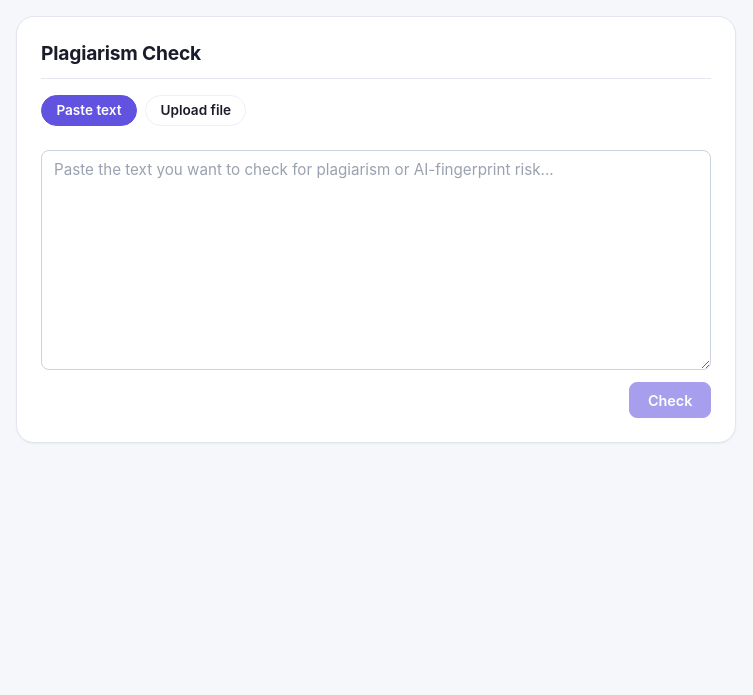
Test case: PlagiarismCheckPanel › checks the typed text and displays all three scores
Replace the text in the text box labelled "Paste the text you want to check for plagiarism or AI-fingerprint risk..." with "My own academic text": (376, 260) [41, 150, 711, 370]
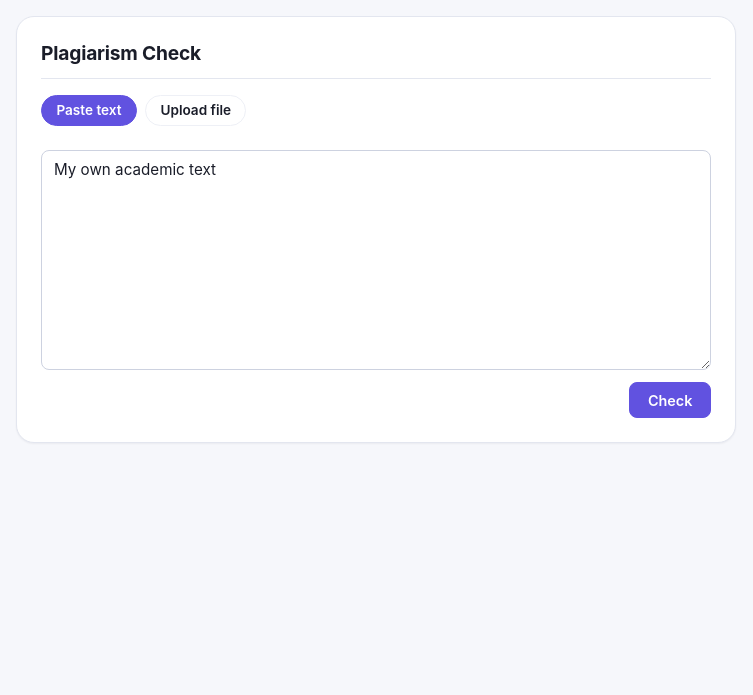
Click the button "Check": (670, 400) [629, 382, 711, 418]
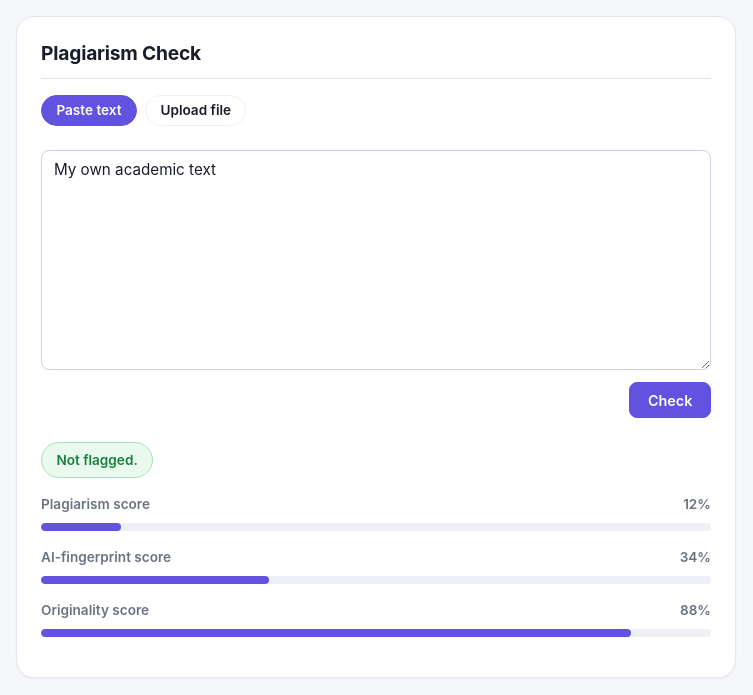
expect the text "12%" is shown: met, box [683, 494, 711, 515]
expect the text "34%" is shown: met, box [680, 547, 711, 568]
expect the text "88%" is shown: met, box [680, 600, 711, 621]
